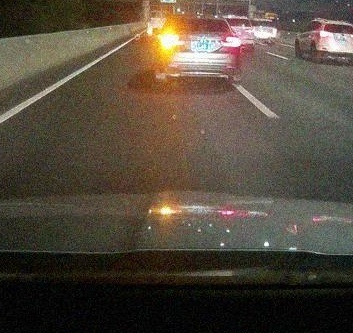L_light: (162, 36, 185, 48)
R_light: (223, 37, 240, 47)
T_light: (194, 20, 204, 22)
night-left: (159, 16, 240, 88)
